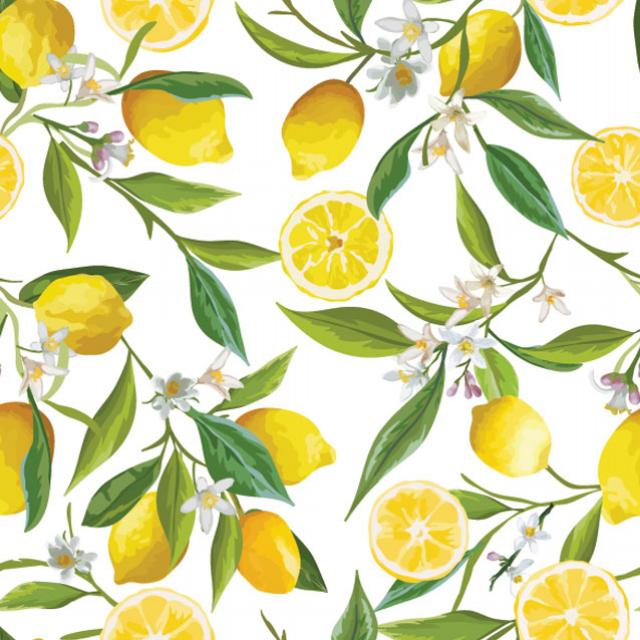lemon: (276, 193, 397, 301), (364, 481, 469, 583), (509, 561, 628, 640), (276, 79, 365, 182), (38, 270, 135, 356), (124, 94, 236, 167), (568, 124, 640, 227), (469, 395, 552, 477), (100, 584, 214, 640), (100, 0, 220, 50), (276, 405, 340, 485), (103, 524, 179, 582), (468, 9, 520, 89)
